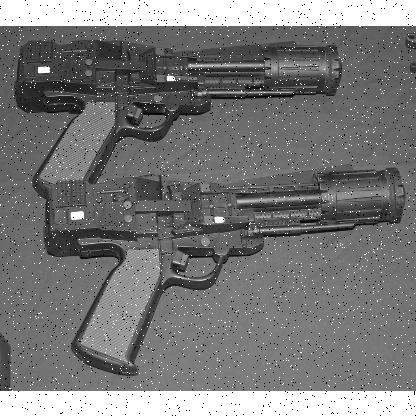gun: (43, 163, 405, 375), (14, 38, 342, 198)
